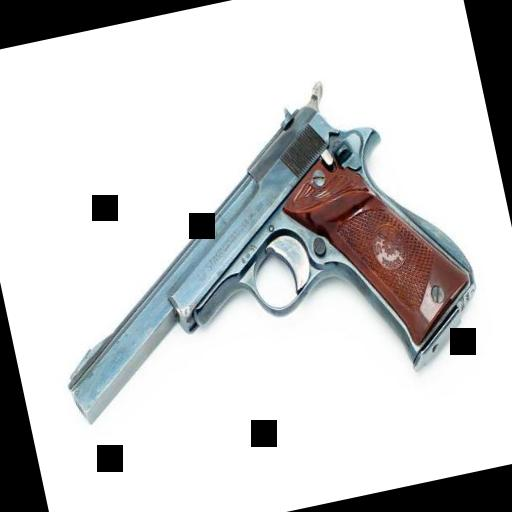Handgun: (8, 53, 494, 452)
